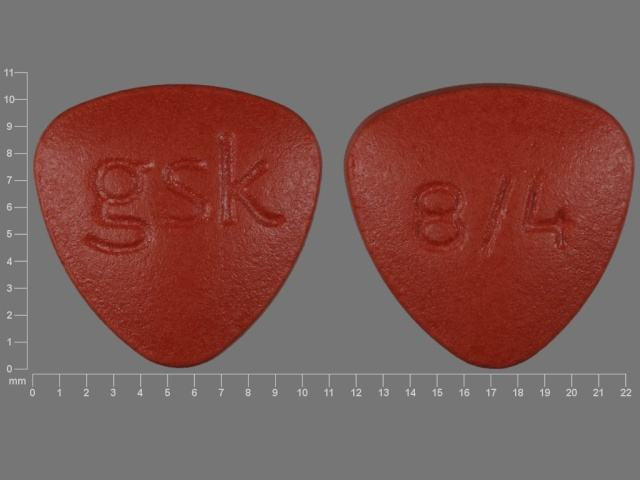/: (474, 169, 518, 260)
4: (515, 167, 579, 255)
8: (411, 176, 472, 257)
g: (80, 153, 158, 262)
k: (216, 127, 291, 230)
s: (157, 156, 216, 235)
